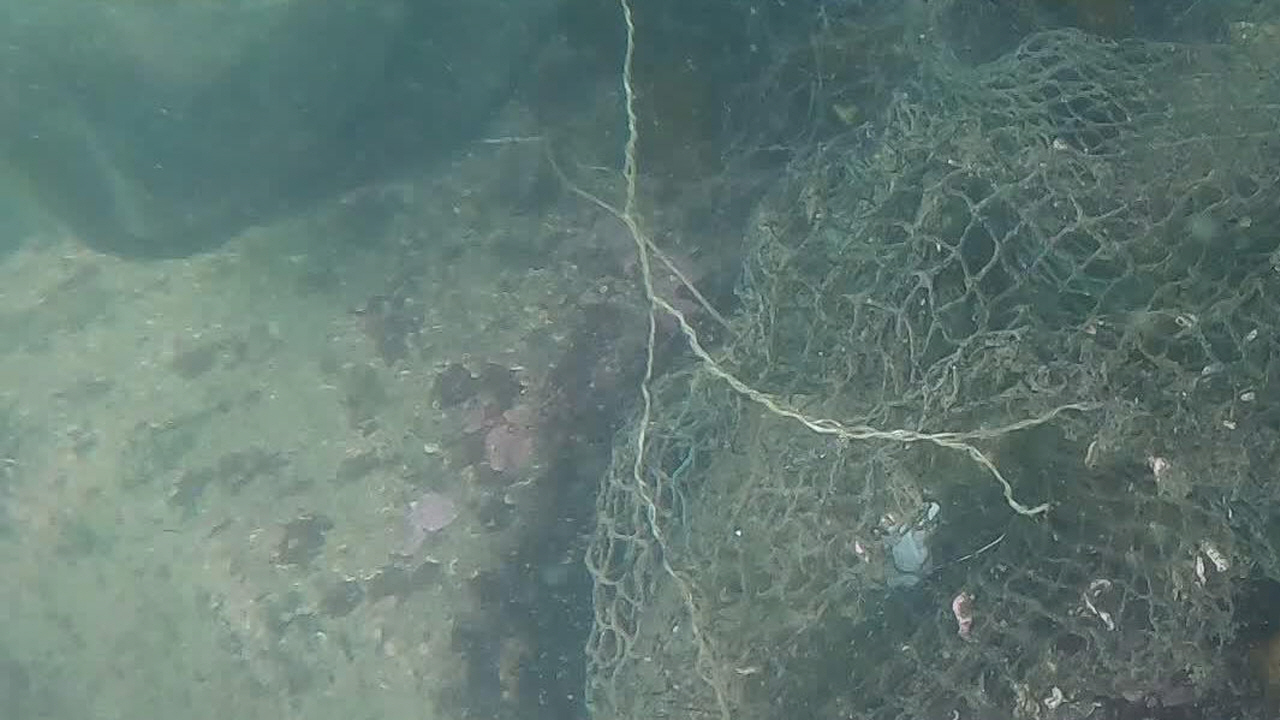fish net: (580, 0, 1280, 715)
